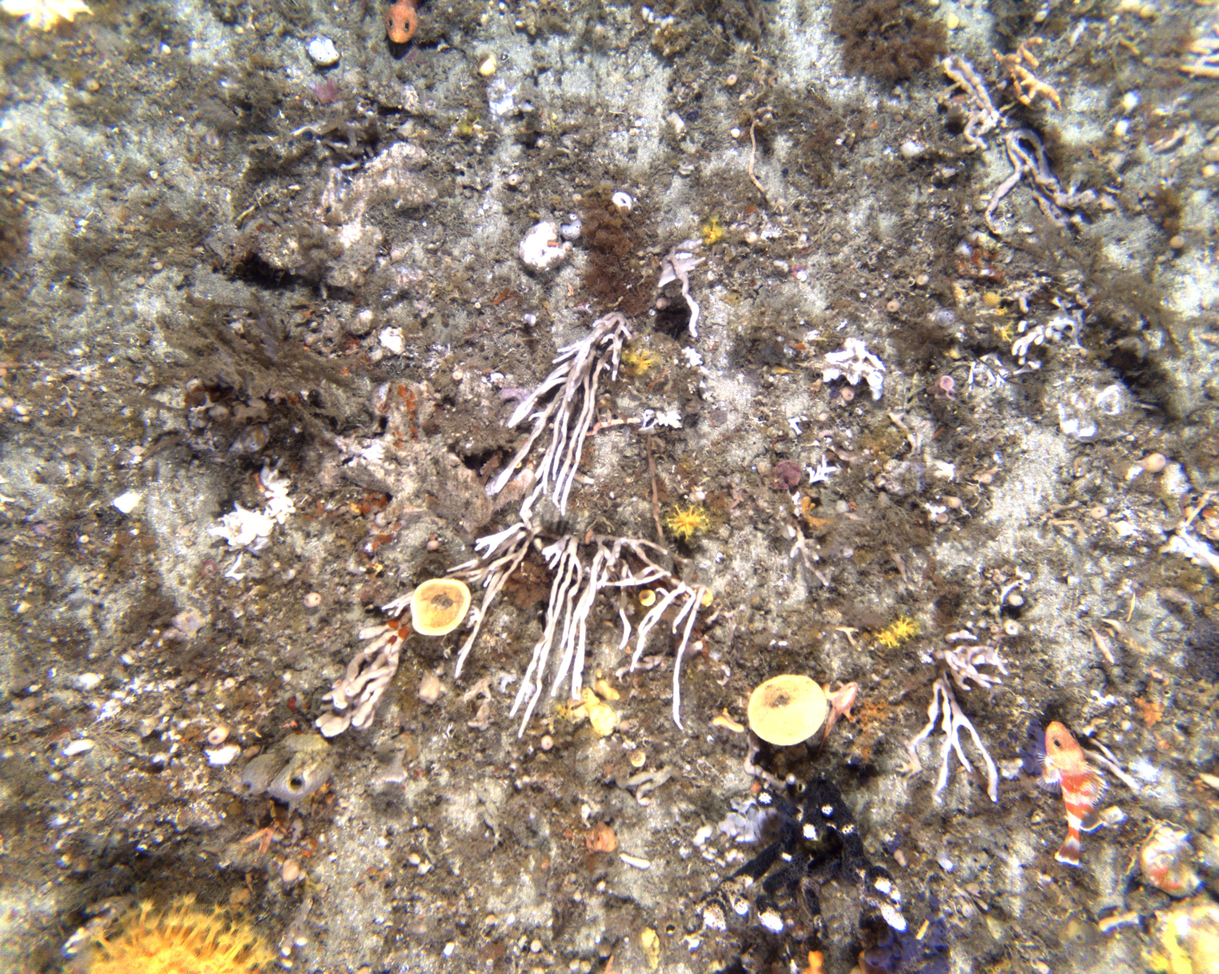Brachionichthyidae: (814, 678, 861, 763)
